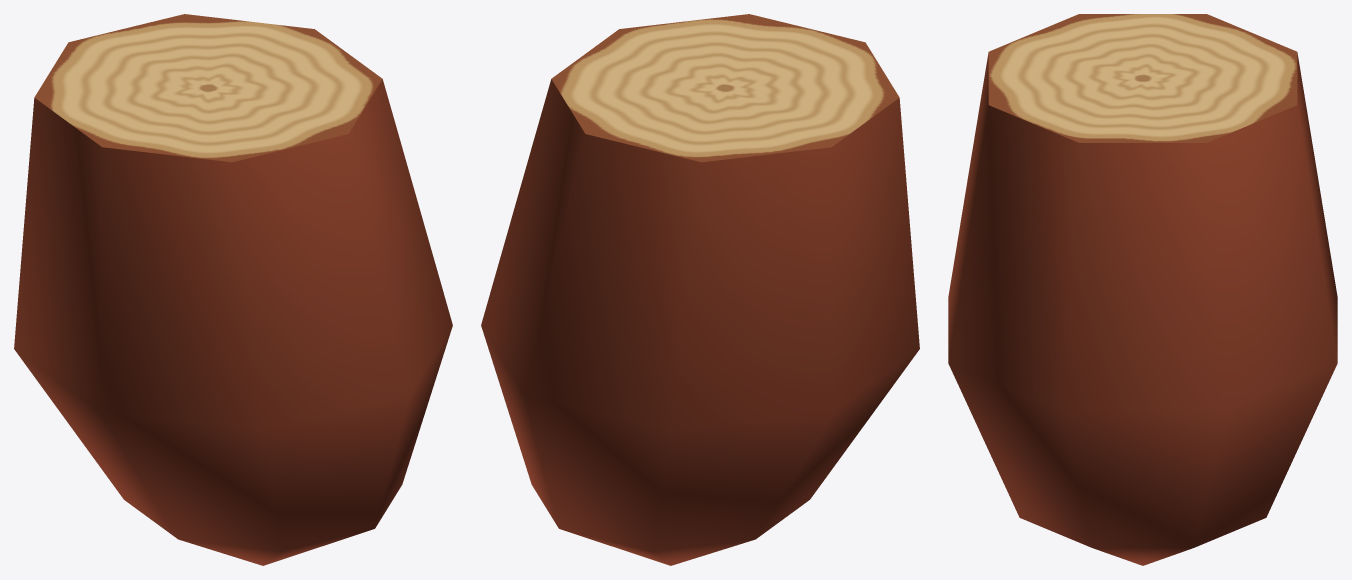
The model's file is tree_2_c_stump.glb.
The picture shows the model from 3 angles, left to right: view 1: azimuth 30°, elevation 25°; view 2: azimuth 150°, elevation 25°; view 3: azimuth 270°, elevation 25°; orthographic projection. The views are drawn at different scales.
Parts seen in each view (by area): view 1: tree_2_c_stump; view 2: tree_2_c_stump; view 3: tree_2_c_stump.
Part boxes in pixels (bbox=[...]): tree_2_c_stump: bbox=[14, 14, 452, 565]; tree_2_c_stump: bbox=[481, 14, 919, 565]; tree_2_c_stump: bbox=[948, 14, 1337, 565].
Bounding box in the file's own units: 0.6645 × 0.8826 × 0.6729.
Materials: 2 (2 with a texture image).
